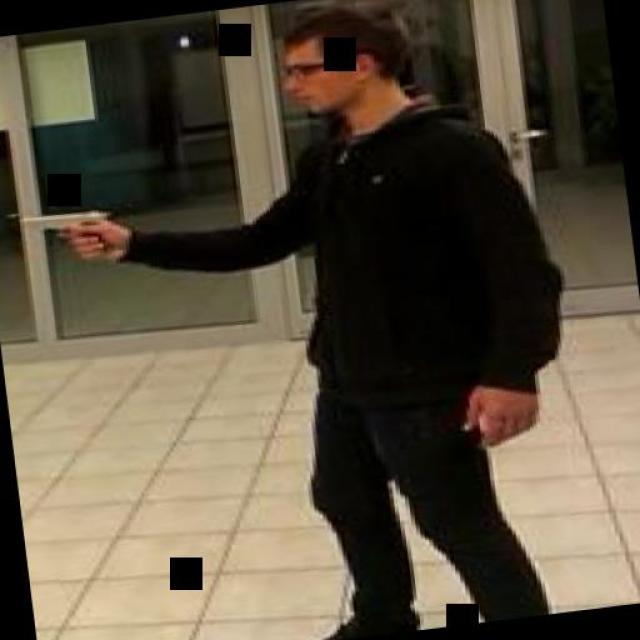gun: (8, 200, 124, 271)
